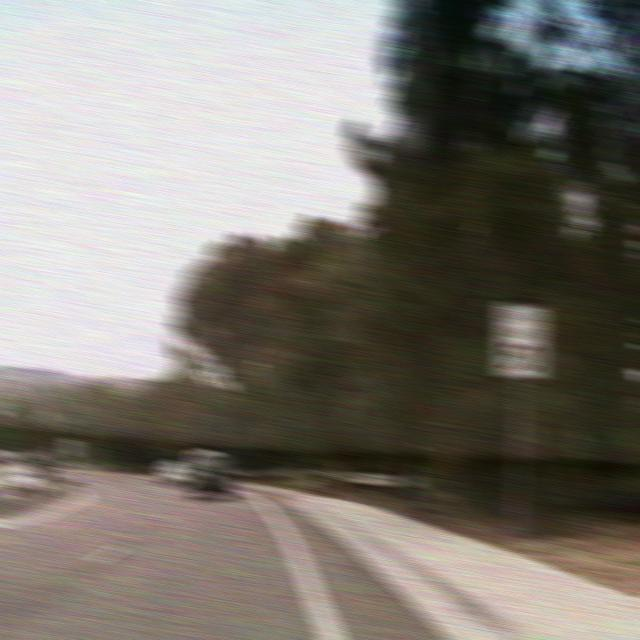speedLimit50: (492, 302, 548, 379)
